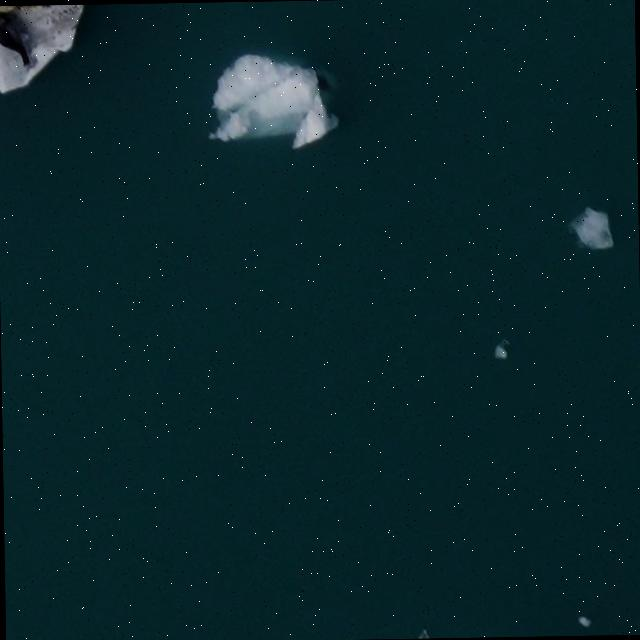seal: (0, 13, 28, 64)
